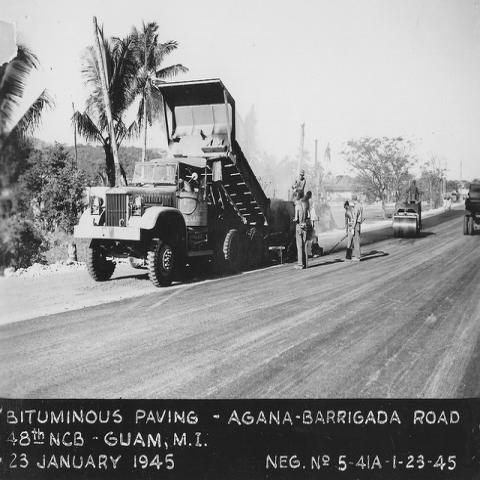truck: (70, 78, 296, 286)
